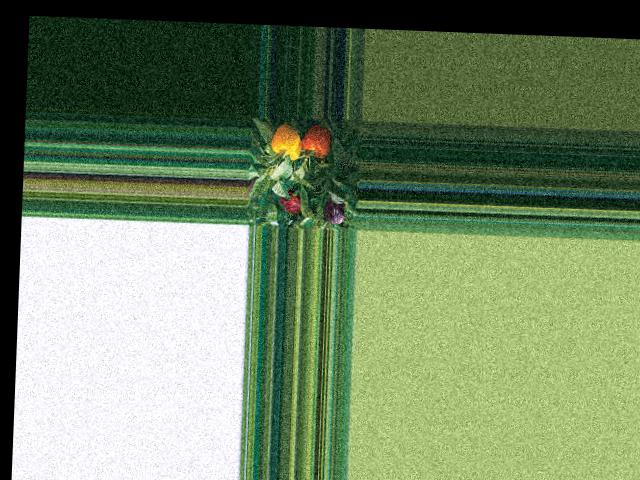bell_pepper: (270, 124, 309, 161)
